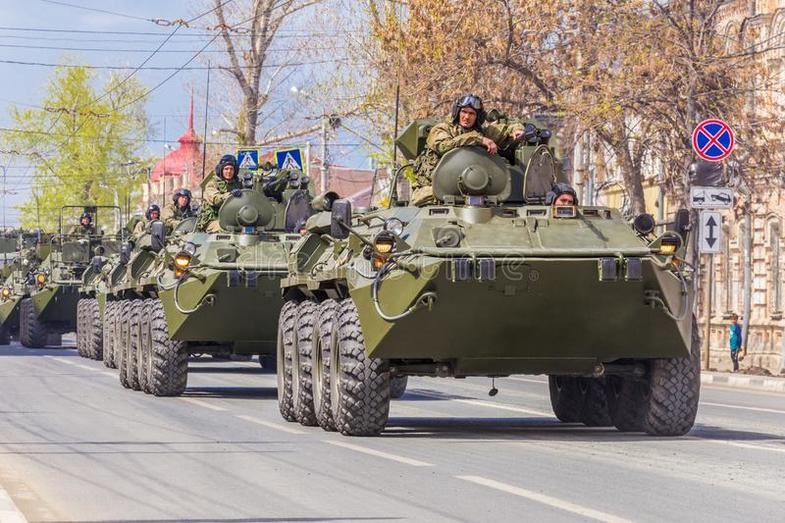btr: (287, 150, 702, 437)
